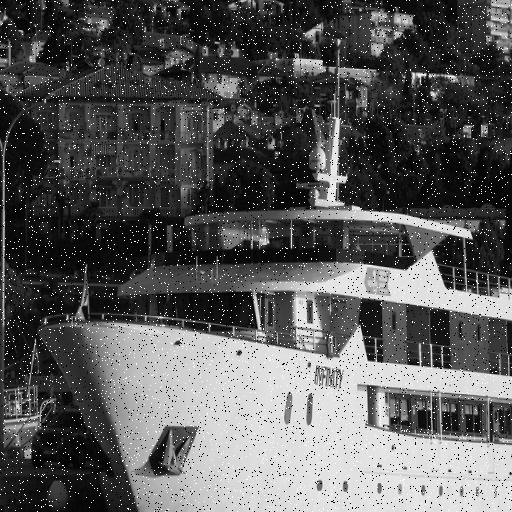cruises: (31, 115, 512, 512)
